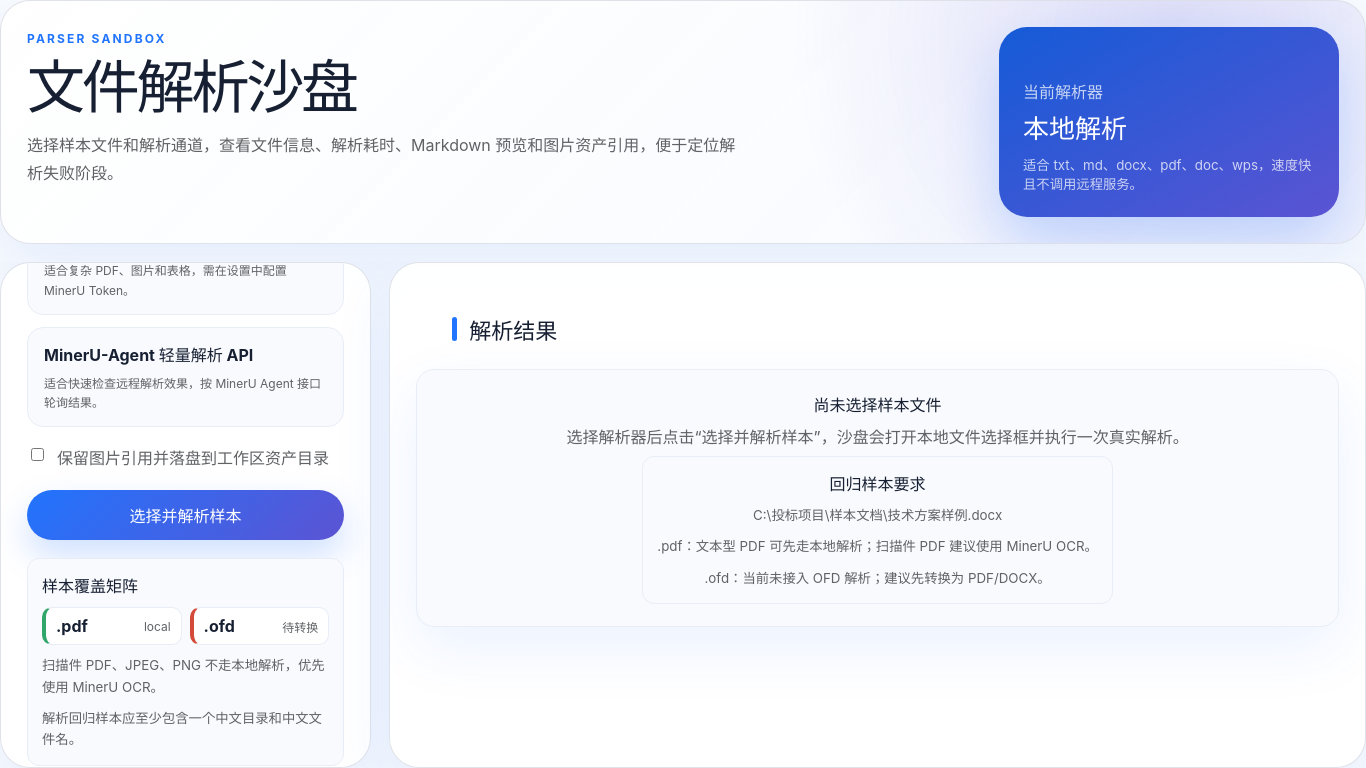
it: DeveloperDemoPage › runs the parser sandbox through the file bridge
(page scrolled)
Check: the text "样本覆盖矩阵" is shown, box [42, 576, 138, 596]
Check: the text ".pdf" is shown, box [56, 616, 88, 636]
Click the button "选择并解析样本" at [186, 515], box [27, 490, 344, 540]
(page scrolled)
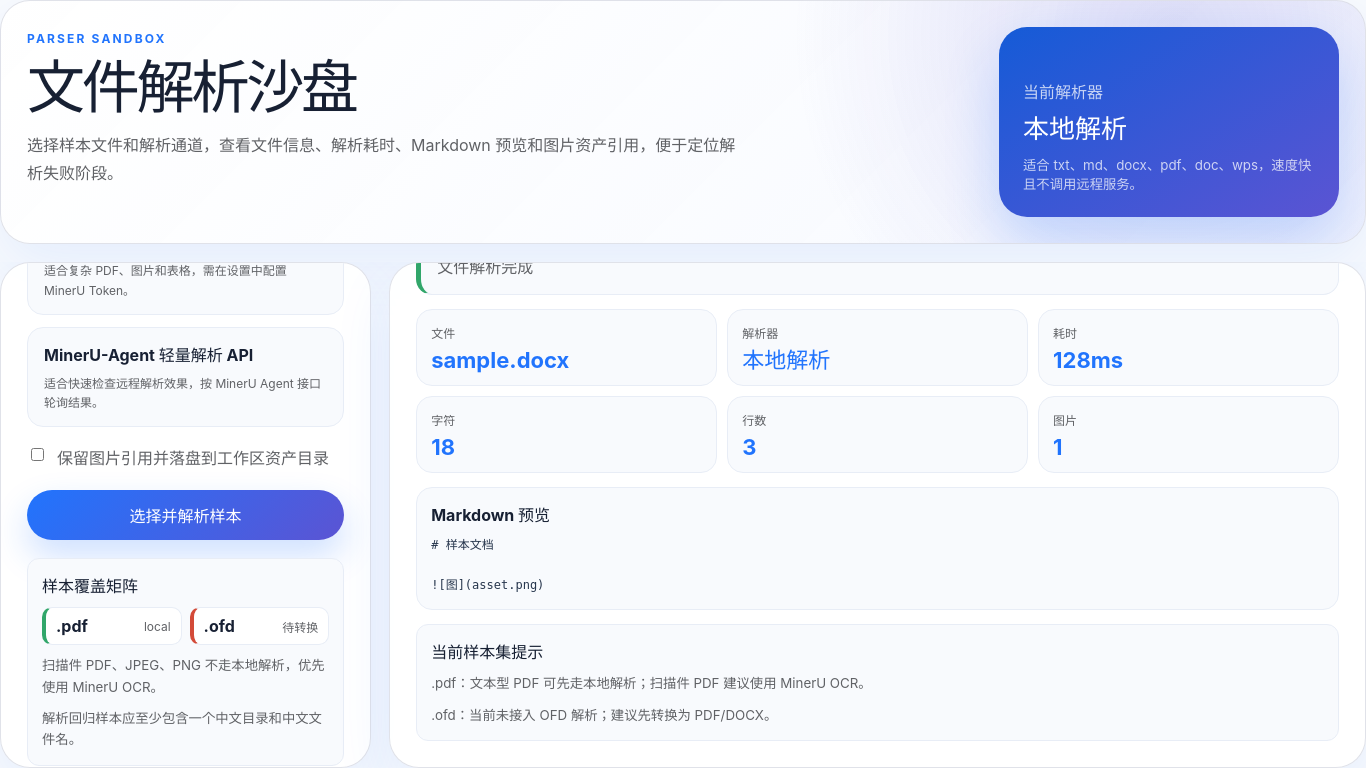
Check: the text "本地解析" below "当前解析器" is shown, box [1023, 112, 1127, 144]
Check: the text "sample.docx" is shown, box [431, 347, 569, 373]
Check: the text "# 样本文档 ![图](asset.png)" is shown, box [431, 538, 544, 592]
